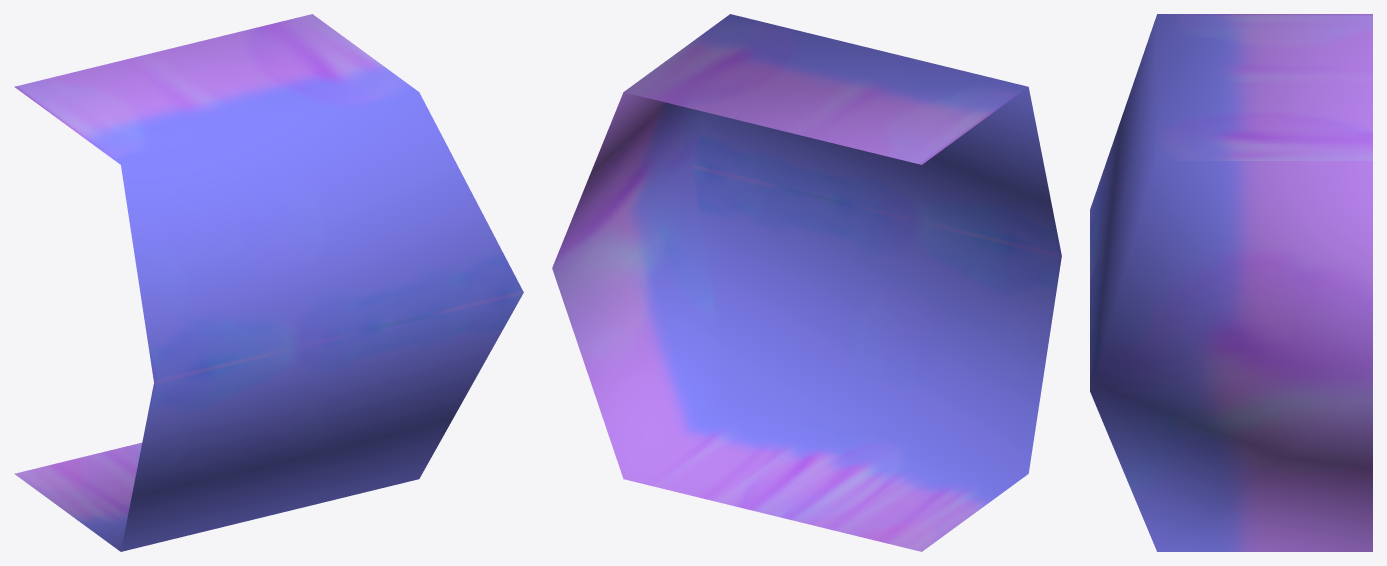
The model's file is sm_wall_roof_edge_straight_end_01.fbx.
3 views of the same model, side by side, from view 1: azimuth 30°, elevation 25°; view 2: azimuth 150°, elevation 25°; view 3: azimuth 270°, elevation 25° (orthographic).
Parts seen in each view (by area): view 1: sm_wall_roof_edge_straight_end_01; view 2: sm_wall_roof_edge_straight_end_01; view 3: sm_wall_roof_edge_straight_end_01.
Boxes of the visible parts, x1,y1,x2,y2 form: sm_wall_roof_edge_straight_end_01: (14,14,523,551); sm_wall_roof_edge_straight_end_01: (552,14,1061,551); sm_wall_roof_edge_straight_end_01: (1090,14,1372,551).
Size of the model in its own units: 25 by 25 by 16.39.
Materials: 1 (1 with a texture image).
